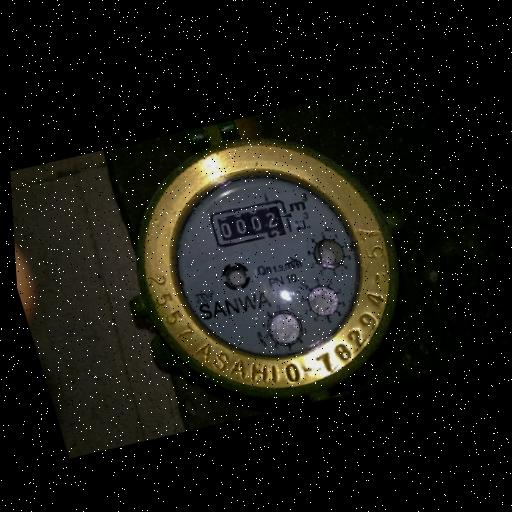0: (245, 208, 265, 235), (231, 212, 250, 238), (217, 216, 236, 241)
2: (260, 206, 286, 239)
border_water_meter_number: (206, 195, 295, 253)
